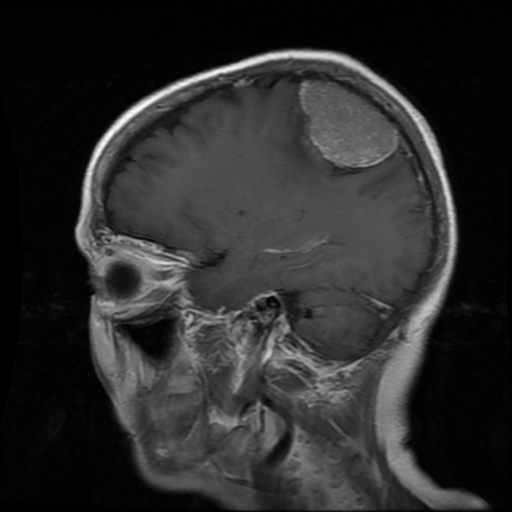meningioma: (300, 81, 400, 167)
